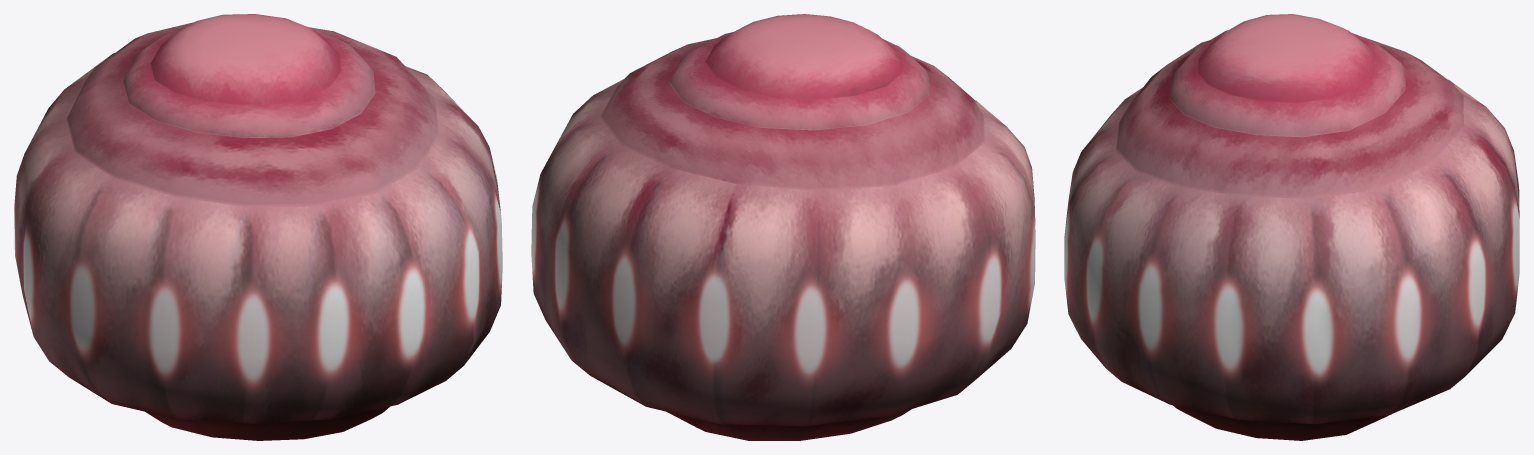
File: Ore_Red_low.glb
3 views of the same model, side by side, from view 1: azimuth 30°, elevation 25°; view 2: azimuth 150°, elevation 25°; view 3: azimuth 270°, elevation 25° (orthographic). The views are drawn at different scales.
Parts seen in each view (by area): view 1: Ore_Red_low; view 2: Ore_Red_low; view 3: Ore_Red_low.
Boxes of the visible parts, <box> form: Ore_Red_low: <box>14,14,502,440</box>; Ore_Red_low: <box>531,14,1035,440</box>; Ore_Red_low: <box>1064,14,1519,440</box>.
Size of the model in its own units: 0.2667 by 0.2134 by 0.2528.
1 material, 1 textured.
